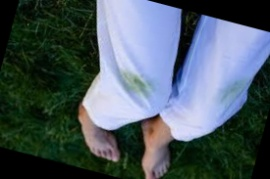earth: (124, 76, 151, 94), (223, 81, 242, 103)
